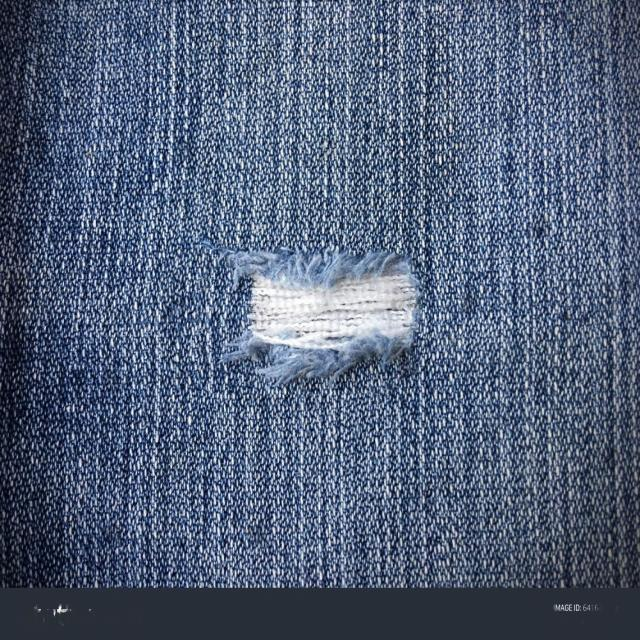Hole: (221, 248, 419, 383)
